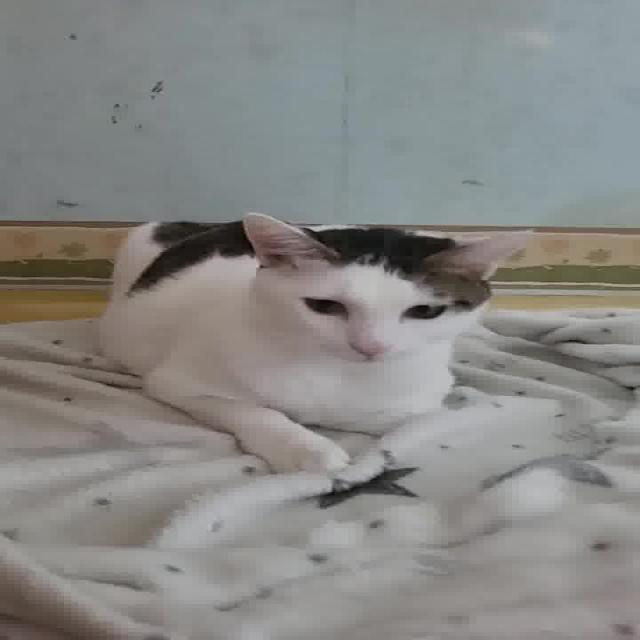cat: (93, 212, 559, 482)
